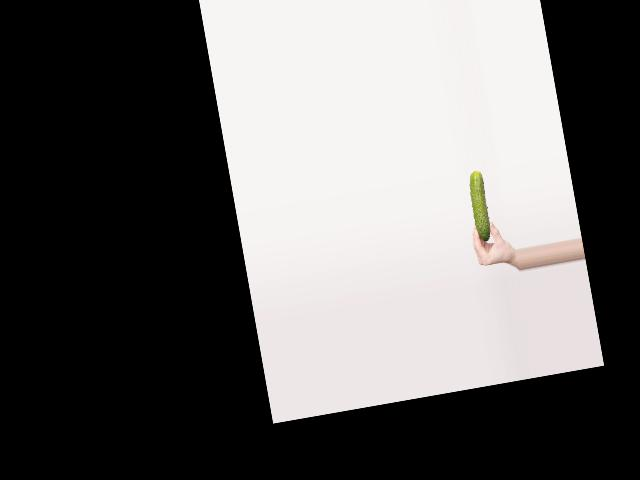cucumber: (466, 170, 492, 242)
